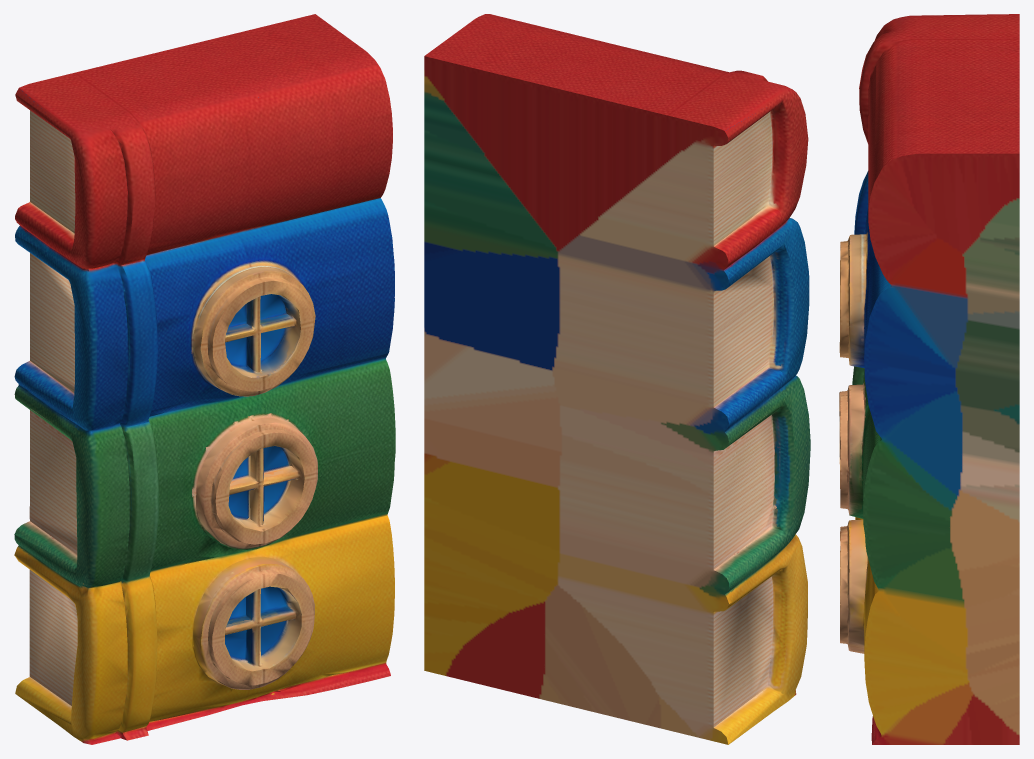
Rendered from 13-topper-front-left.fbx.
3 renders of one model, left to right at view 1: azimuth 30°, elevation 25°; view 2: azimuth 150°, elevation 25°; view 3: azimuth 270°, elevation 25°, orthographic. The views are drawn at different scales.
Parts seen in each view (by area): view 1: topper-front-left; view 2: topper-front-left; view 3: topper-front-left.
Boxes of the visible parts, x1,y1,x2,y2 form: topper-front-left: (14, 14, 395, 744); topper-front-left: (424, 14, 810, 744); topper-front-left: (839, 14, 1019, 744).
Size of the model in its own units: 6058 by 11560 by 3197.
Materials: 1 (1 with a texture image).
